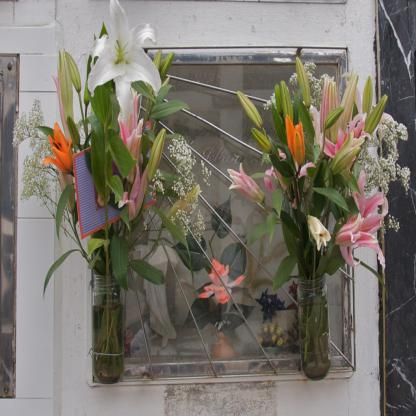vase: (91, 271, 125, 386), (297, 274, 330, 380)
